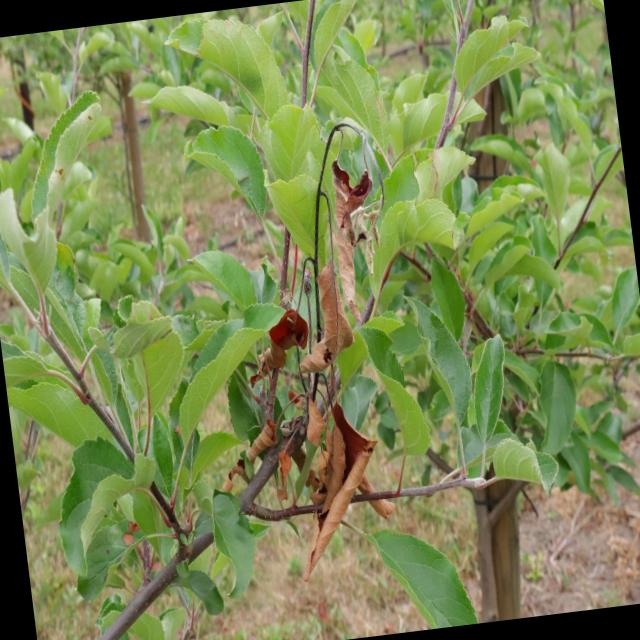-FireBlight-: (260, 307, 378, 553), (312, 117, 398, 326)
